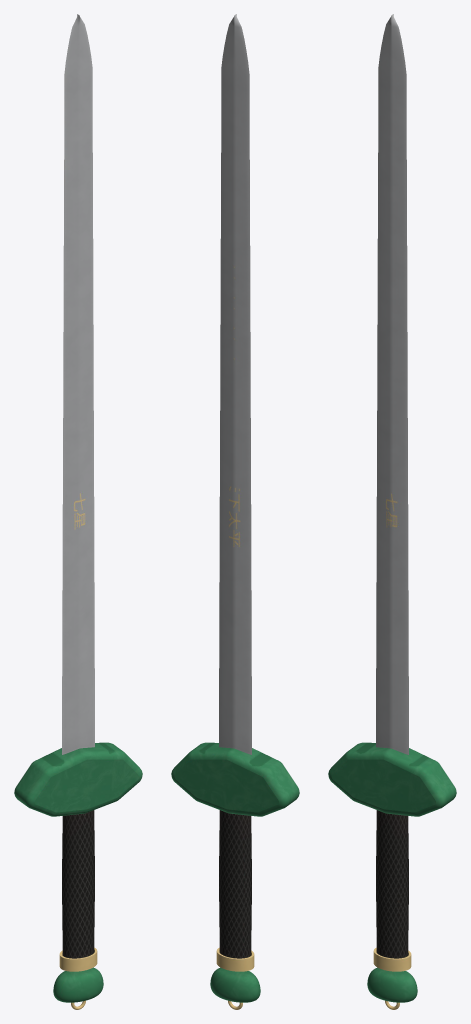
File: jade_jian.glb
The picture shows the model from 3 angles, left to right: view 1: azimuth 30°, elevation 25°; view 2: azimuth 150°, elevation 25°; view 3: azimuth 330°, elevation 25°; orthographic projection.
Parts seen in each view (by area): view 1: jade_jian; view 2: jade_jian; view 3: jade_jian.
Part boxes in pixels (x1=…): jade_jian: x1=14, y1=14, x2=142, y2=1009; jade_jian: x1=171, y1=14, x2=299, y2=1009; jade_jian: x1=328, y1=14, x2=456, y2=1009.
Size of the model in its own units: 0.118 by 0.9655 by 0.03.
Materials: 1 (1 with a texture image).
